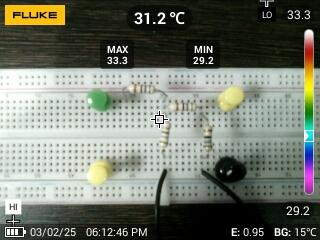resistor: (157, 119, 174, 150), (125, 83, 158, 96), (166, 101, 201, 113), (202, 122, 215, 154)
